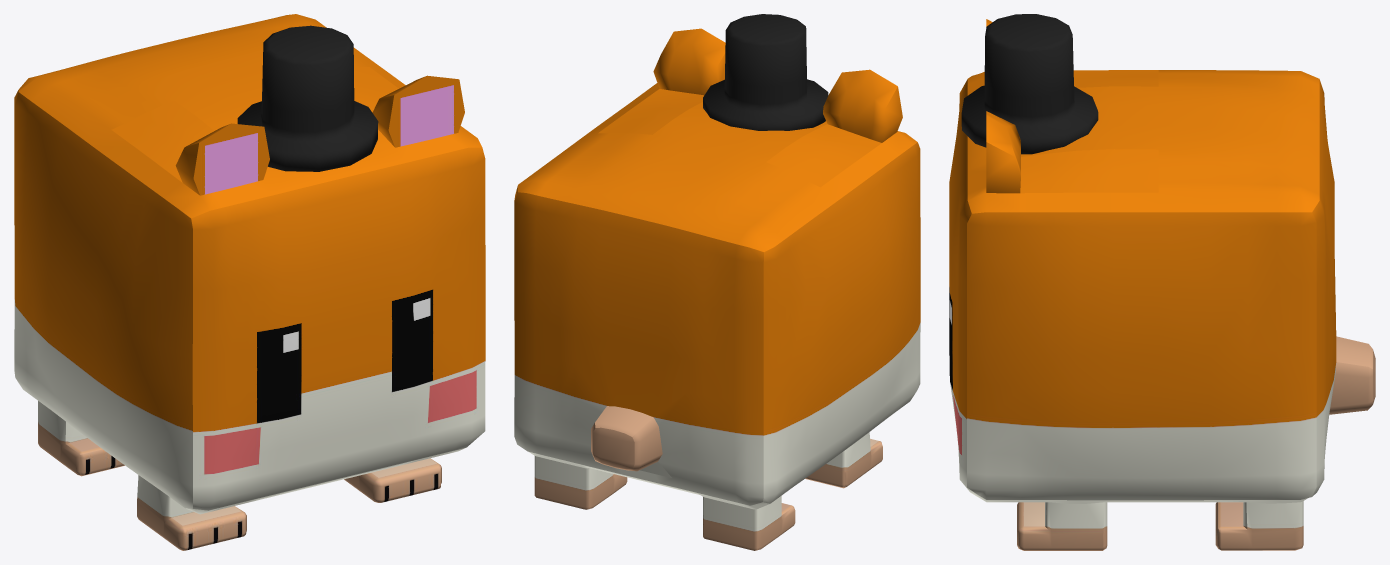
Rendered from TopHatIdle.fbx.
3 renders of one model, left to right at view 1: azimuth 30°, elevation 25°; view 2: azimuth 150°, elevation 25°; view 3: azimuth 270°, elevation 25°, orthographic. The views are drawn at different scales.
Parts seen in each view (by area): view 1: bag_new:pCube9; view 2: bag_new:pCube9; view 3: bag_new:pCube9.
Boxes of the visible parts, <box> form: bag_new:pCube9: <box>14,14,485,550</box>; bag_new:pCube9: <box>514,14,920,550</box>; bag_new:pCube9: <box>949,14,1375,550</box>.
Bounding box in the file's own units: 4.23 × 5.73 × 4.81.
